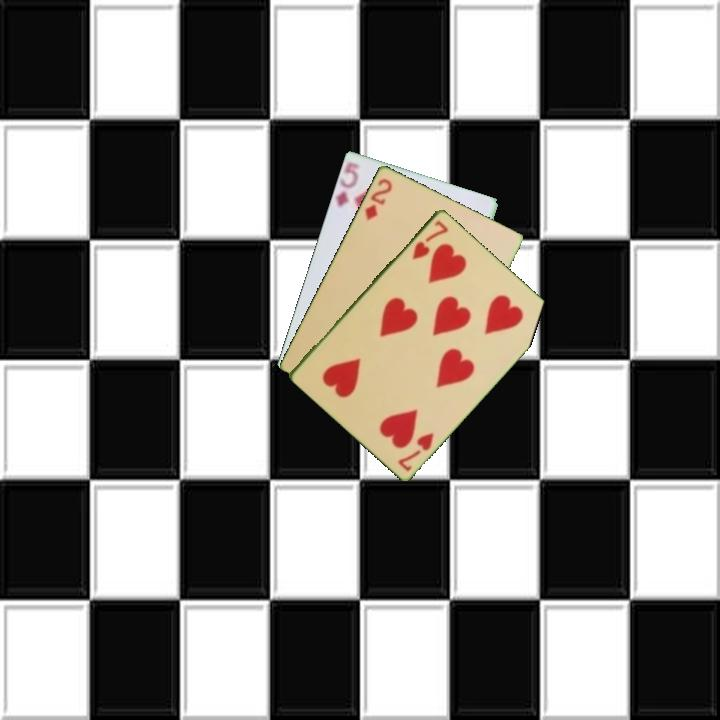2d: (361, 175, 395, 223)
5d: (332, 161, 361, 211)
7h: (408, 216, 451, 262), (394, 428, 437, 474)
